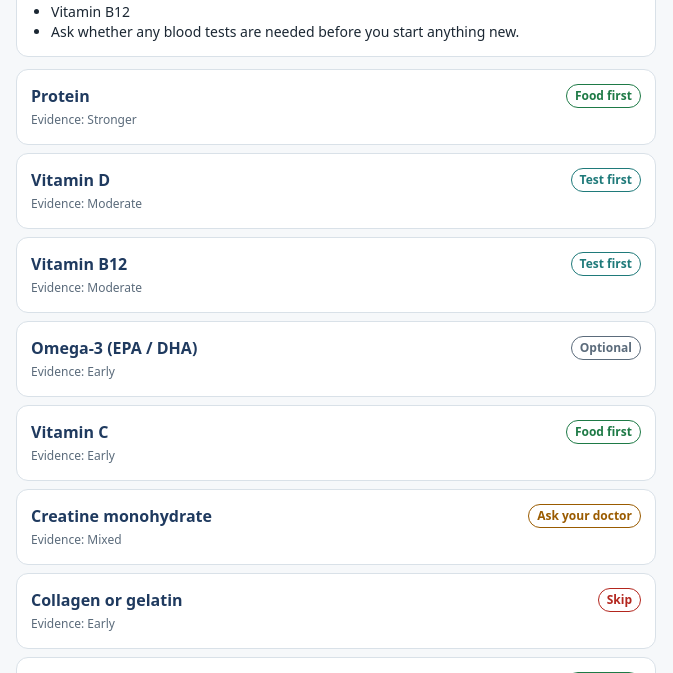
Test case: Supplements page › shows the doctor warning and expands a card with its vegetarian option
The image size is (673, 673).
(page scrolled)
Click the button "Omega-3 (EPA / DHA) Optional Evidence: Early" at (114, 348), box [31, 336, 641, 380]
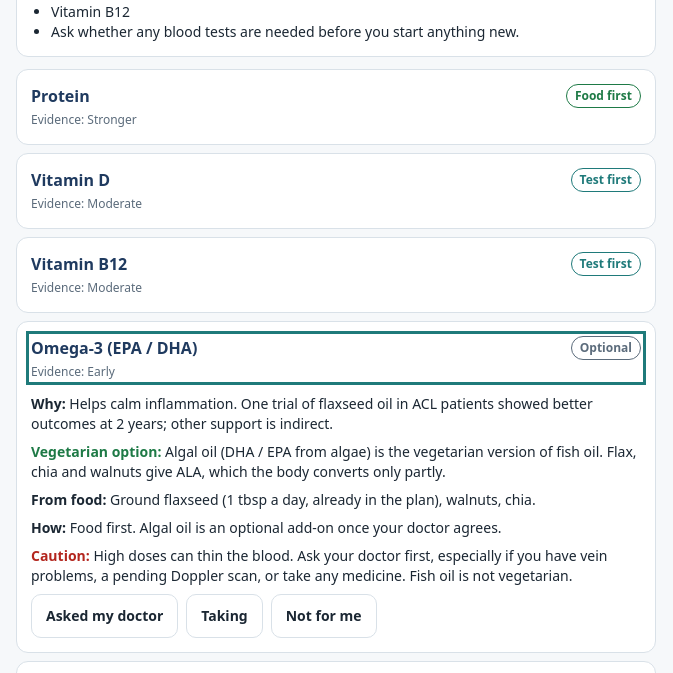
Expected: the text "Algal oil" is shown, [31, 442, 637, 481]
Expected: the text "Vegetarian option:" is shown, [31, 442, 161, 461]
